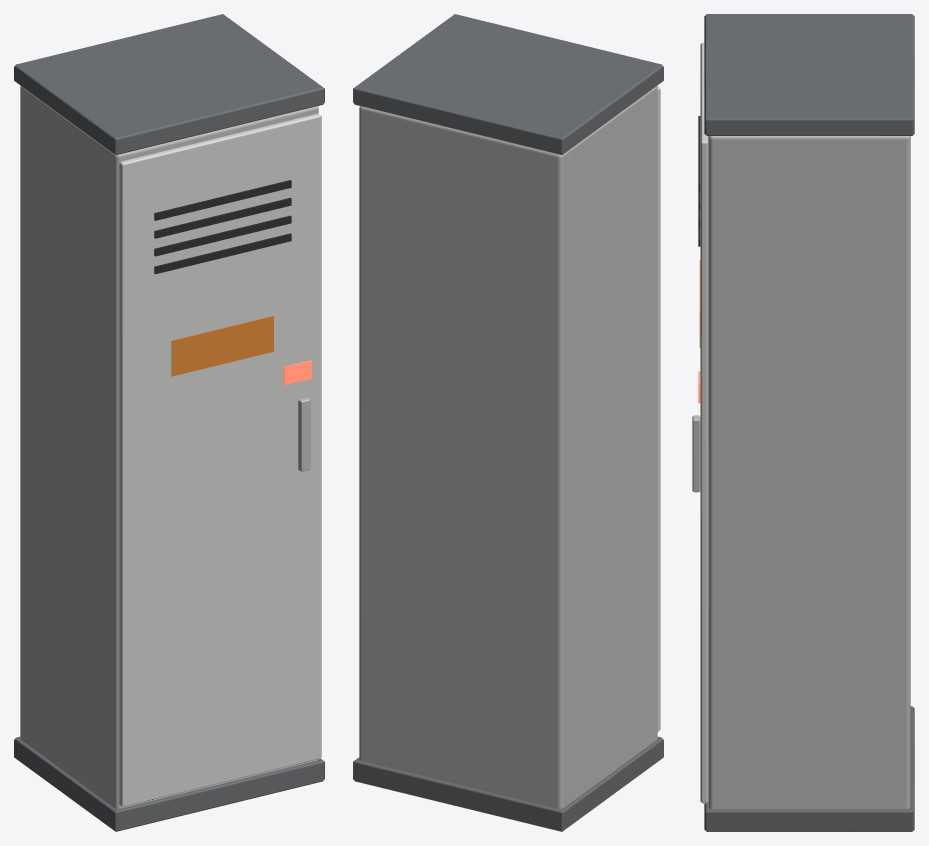
Rendered from locker.glb.
The picture shows the model from 3 angles, left to right: view 1: azimuth 30°, elevation 25°; view 2: azimuth 150°, elevation 25°; view 3: azimuth 270°, elevation 25°; orthographic projection. The views are drawn at different scales.
Visible parts, largest first — view 1: Door, locker; view 2: locker, Door; view 3: locker, Door.
Part boxes in pixels (left/top/right/bottom): Door: left=119, top=113, right=321, bottom=806; locker: left=14, top=14, right=324, bottom=831; locker: left=353, top=14, right=663, bottom=831; Door: left=657, top=86, right=660, bottom=731; locker: left=704, top=14, right=914, bottom=831; Door: left=692, top=42, right=708, bottom=803.
Bounding box in the file's own units: 0.62 × 1.95 × 0.55.
